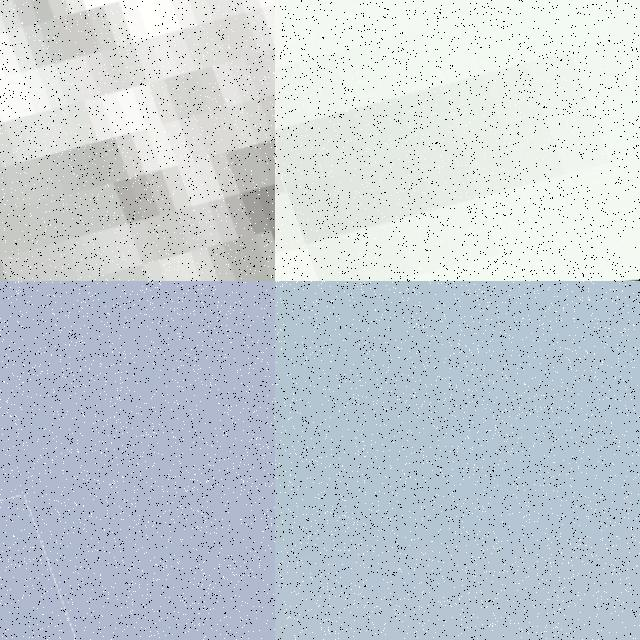0: (0, 0, 275, 281)
drone: (275, 0, 640, 281)
